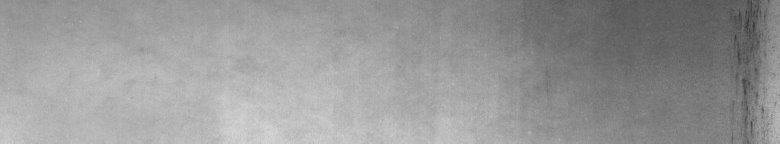ka: (725, 4, 776, 136)
